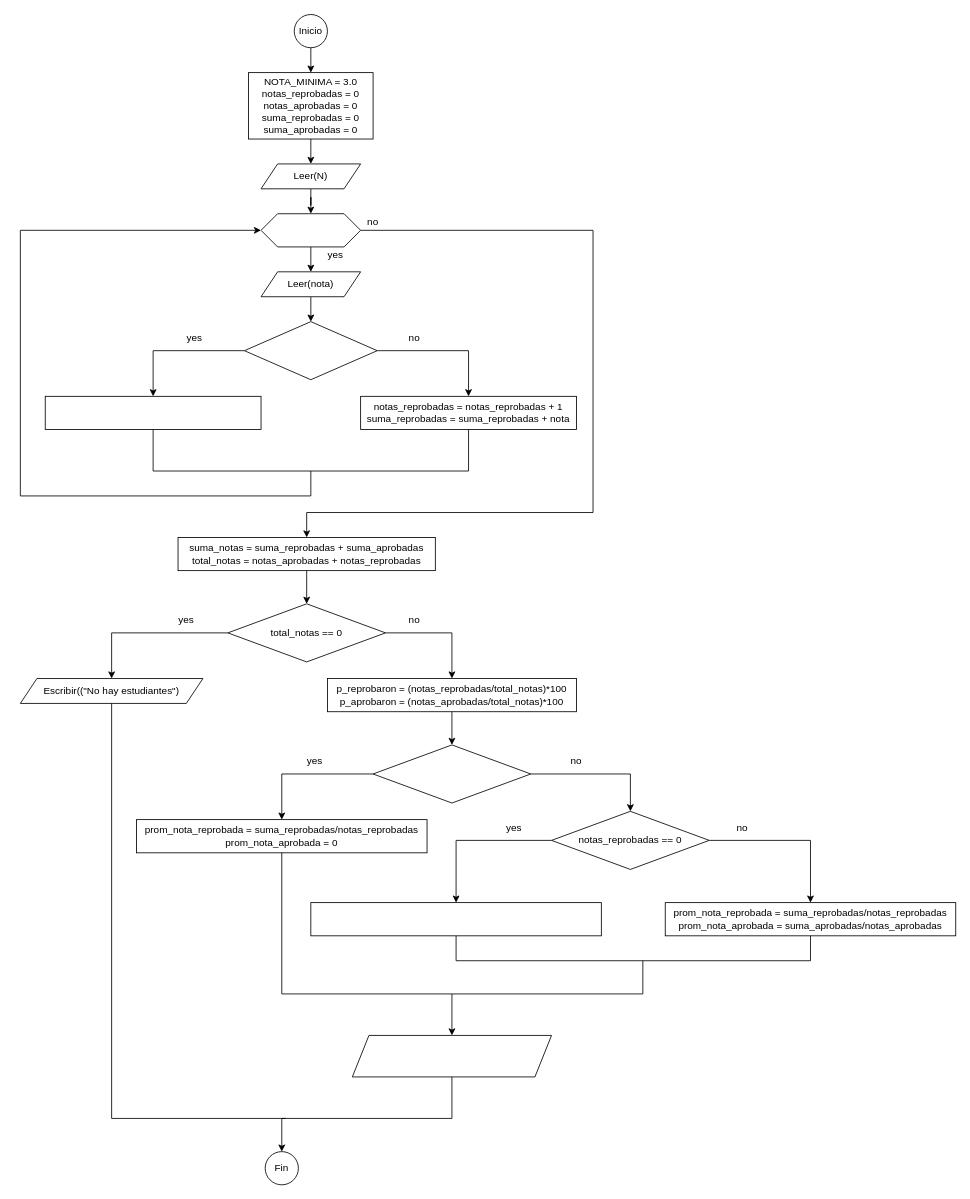
Image size: 970x1199. Some labels were removed from this diagram. The shapes that lost their labels are listed below. From the top down, each one's centre as x and y in pixels, then its label:
(x=310, y=230): i = 0,N-1,1
(x=310, y=350): nota >= NOTA_MINIMA
(x=152, y=412): notas_aprobadas = notas_aprobadas + 1 suma_aprobadas = suma_aprobadas + nota
(x=451, y=773): notas_aprobadas == 0
(x=455, y=919): prom_nota_aprobada = suma_aprobadas/notas_aprobadas prom_nota_reprobada = 0
(x=452, y=1056): Escribir(p_reprobaron, p_aprobaron,prom_nota_reprobada, prom_nota_aprobada)
